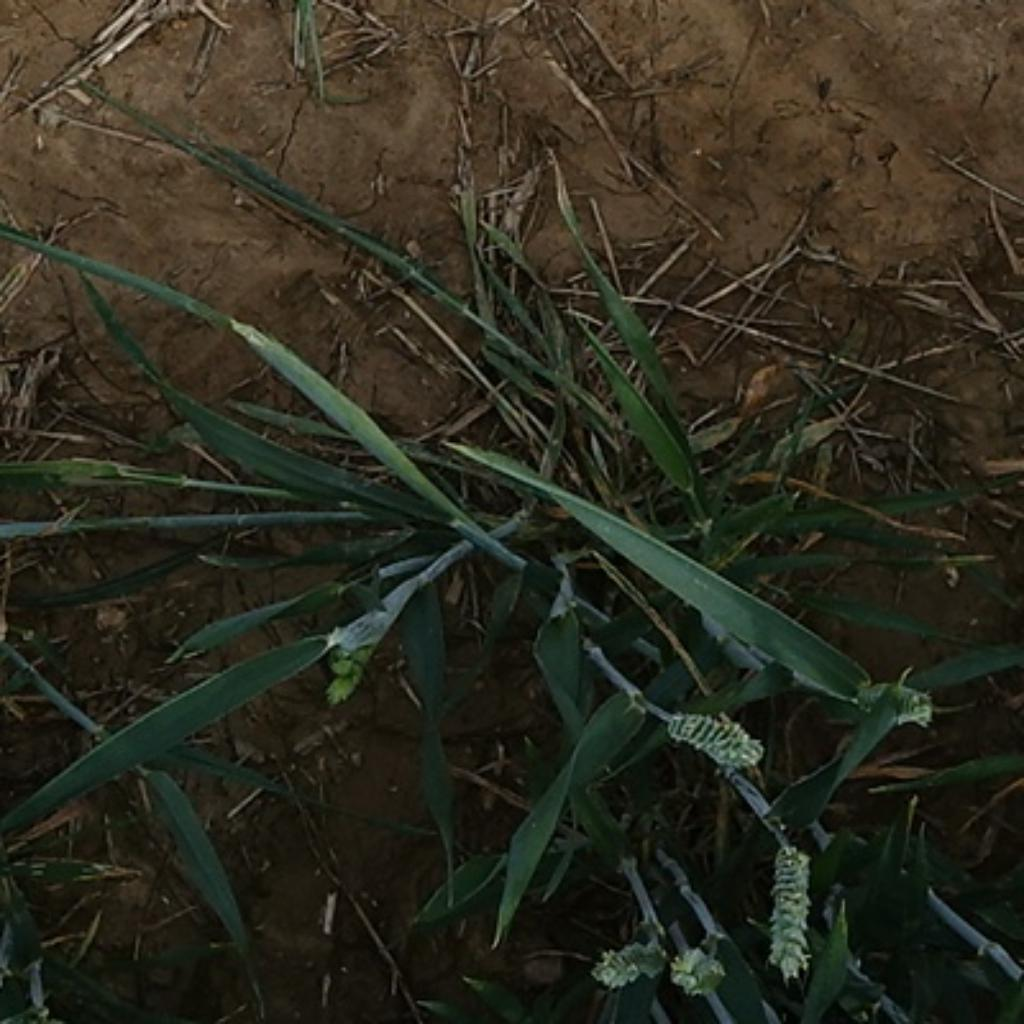0-0: (759, 834, 824, 983), (659, 706, 773, 775), (838, 667, 941, 740), (314, 626, 389, 708), (658, 930, 731, 1008), (589, 933, 670, 993)
